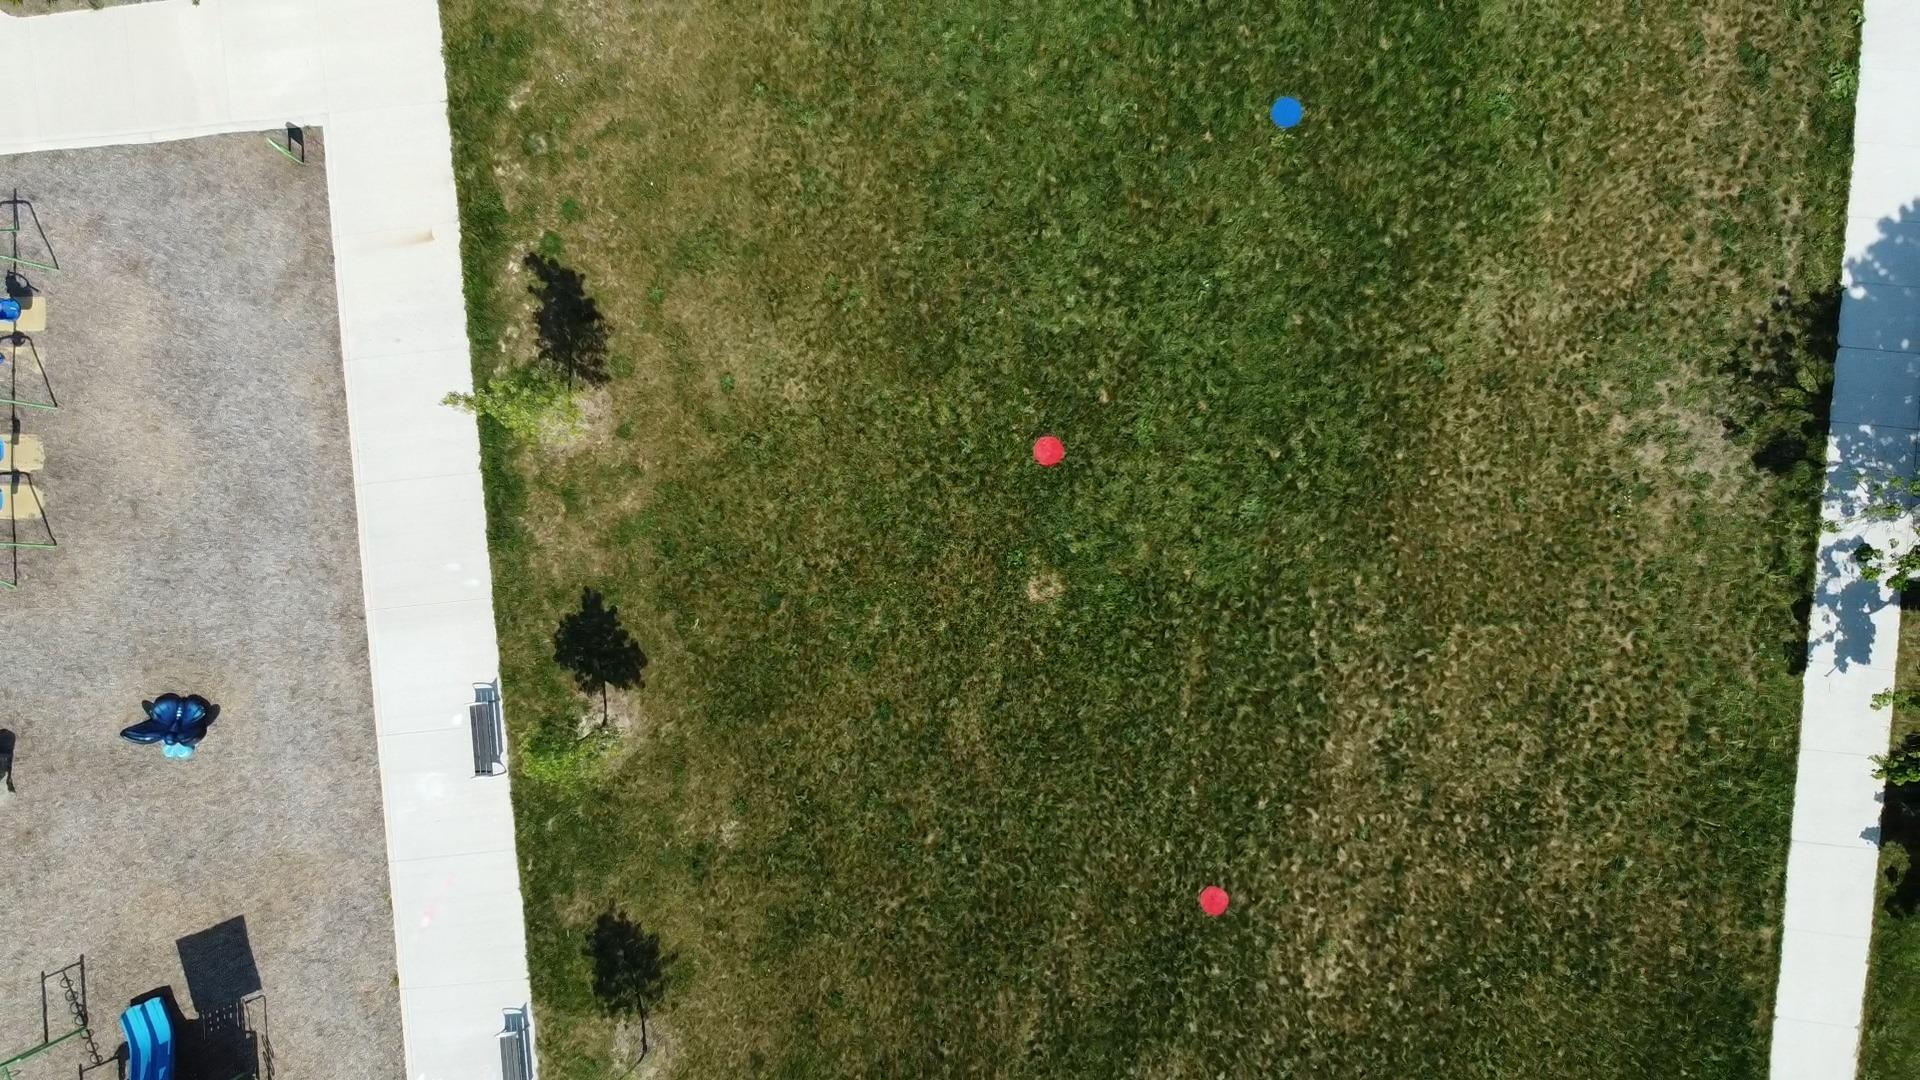Blue: (1270, 96, 1303, 129)
Red: (1196, 884, 1230, 918), (1033, 435, 1065, 468)
